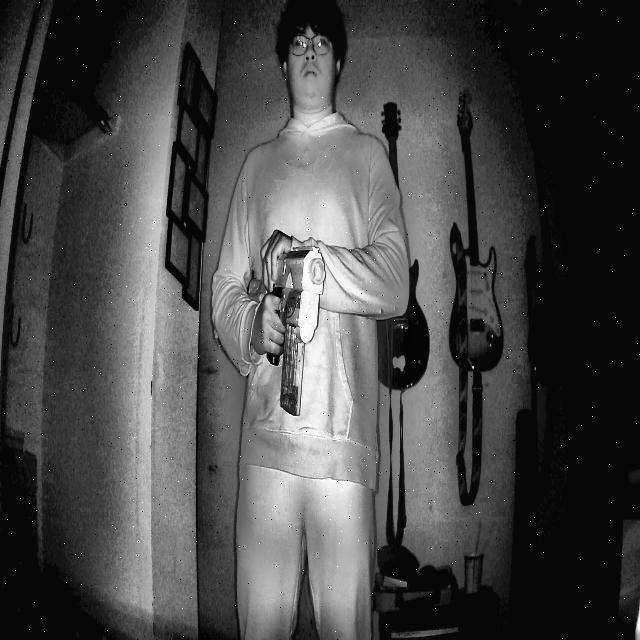Nerf_Blaster: (230, 206, 340, 459)
